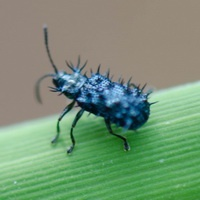insect: (35, 26, 155, 152)
